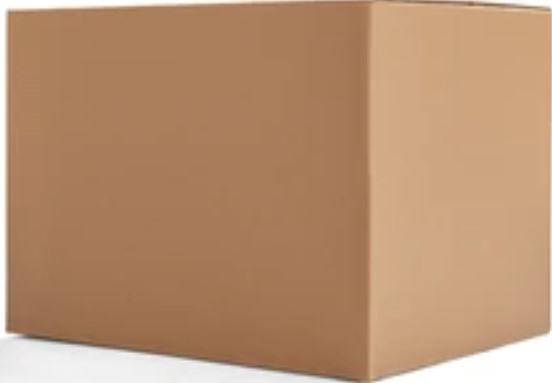stock: (7, 3, 551, 383)
